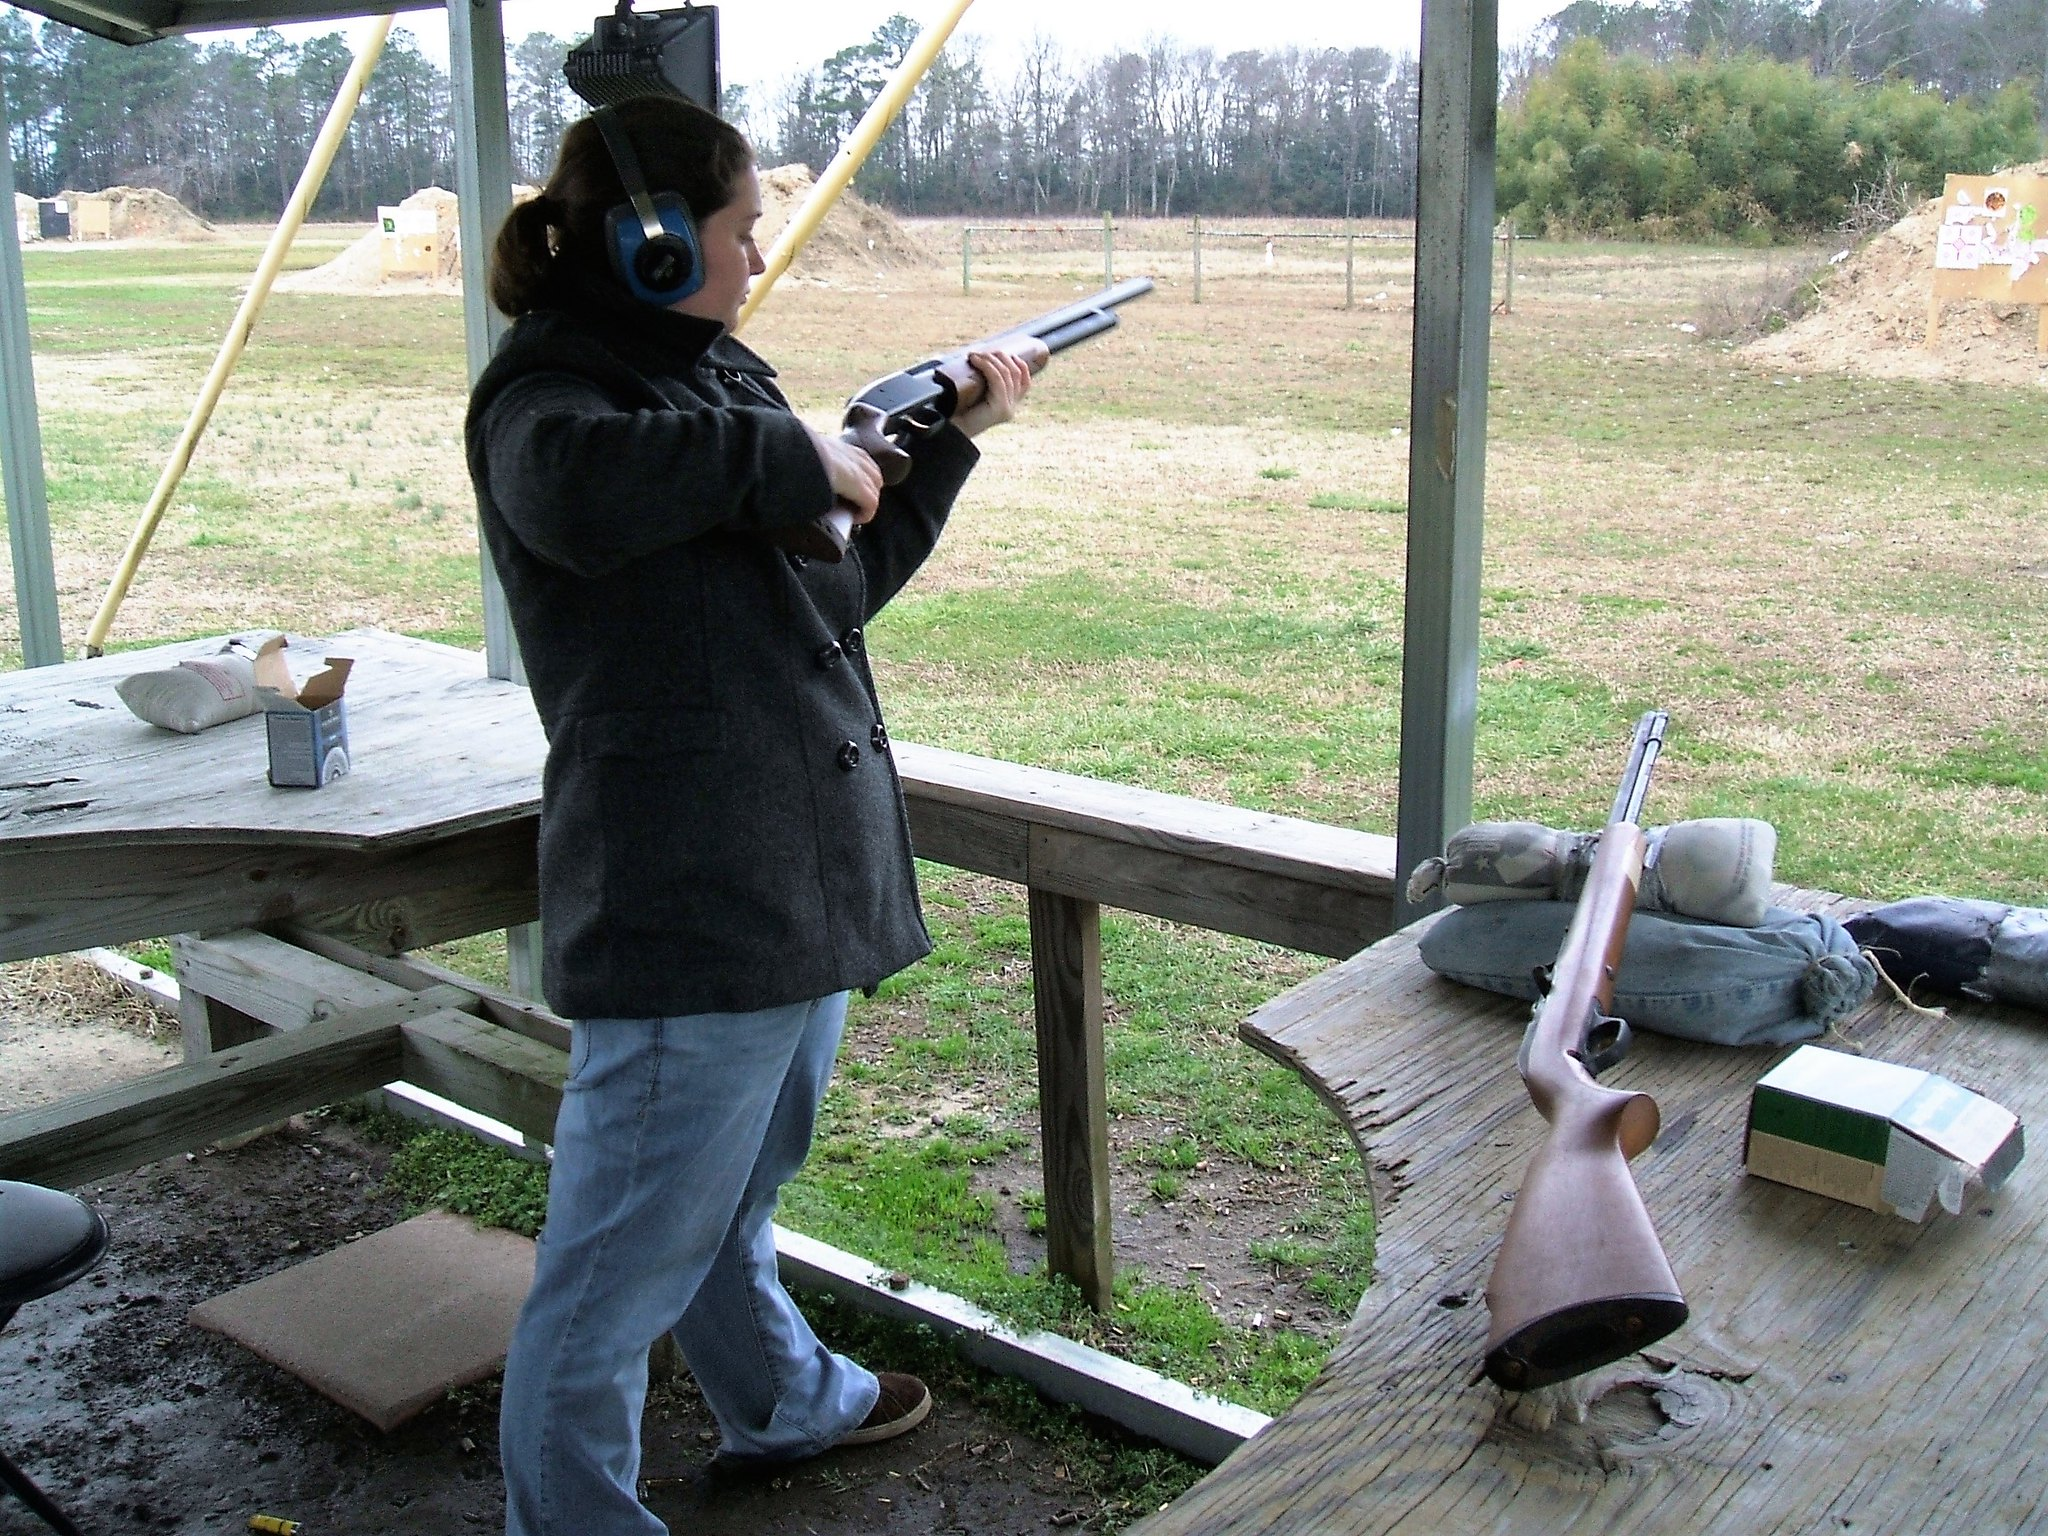gun: (1490, 702, 1707, 1468), (807, 268, 1161, 569)
person: (439, 86, 1030, 1536)
